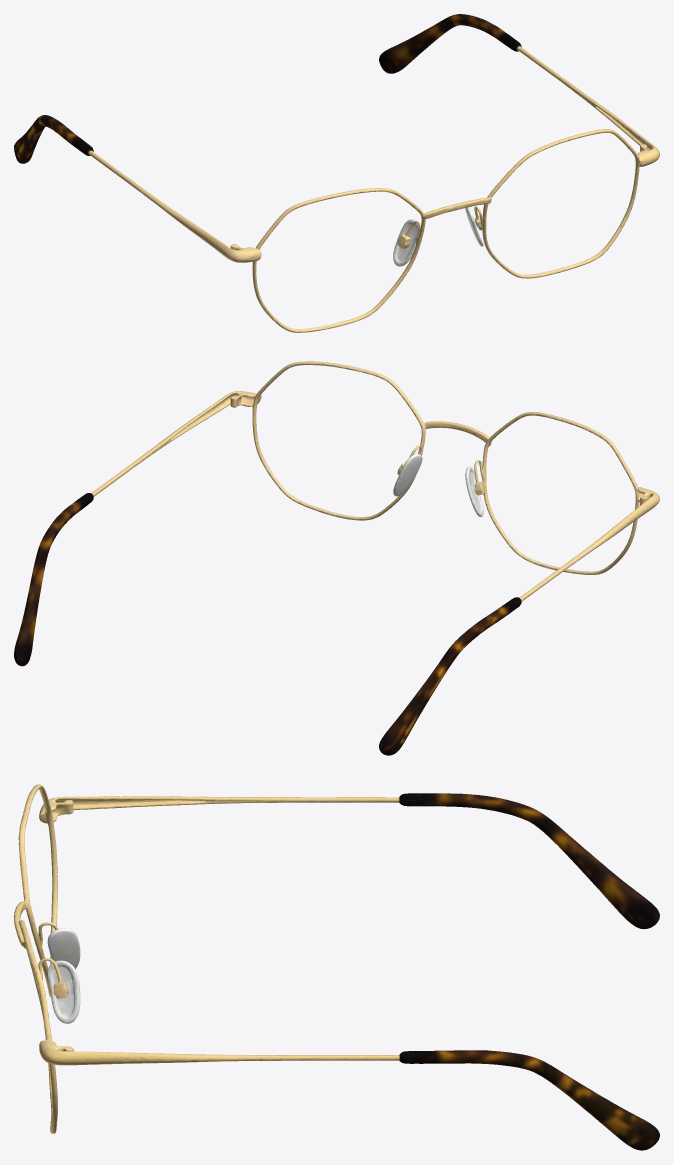
File: gold-glasses.glb
3 renders of one model, top to bottom at view 1: azimuth 30°, elevation 25°; view 2: azimuth 150°, elevation 25°; view 3: azimuth 270°, elevation 25°, orthographic. The views are drawn at different scales.
Parts seen in each view (by area): view 1: Mesh_0; view 2: Mesh_0; view 3: Mesh_0.
Boxes of the visible parts, bbox=[...] form: Mesh_0: bbox=[14, 14, 659, 332]; Mesh_0: bbox=[14, 361, 659, 755]; Mesh_0: bbox=[14, 784, 659, 1150].
Size of the model in its own units: 0.9631 by 0.3013 by 1.
Materials: 1 (1 with a texture image).
